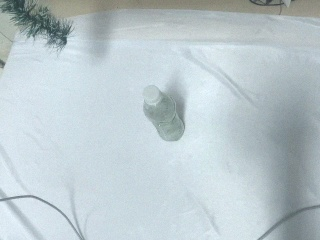bottle: (141, 84, 187, 142)
